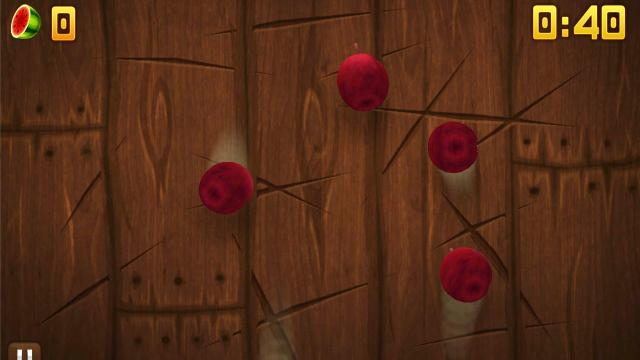fruit: (338, 48, 390, 112), (438, 245, 494, 303), (198, 161, 254, 215), (428, 120, 480, 174)
ignore: (8, 2, 44, 42)
